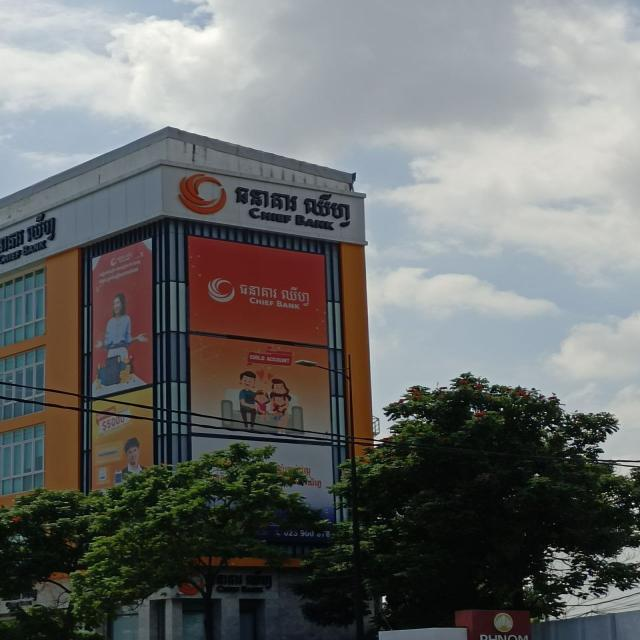Yolov11_80vkh: (231, 178, 357, 230), (5, 206, 59, 252), (237, 278, 313, 308)
